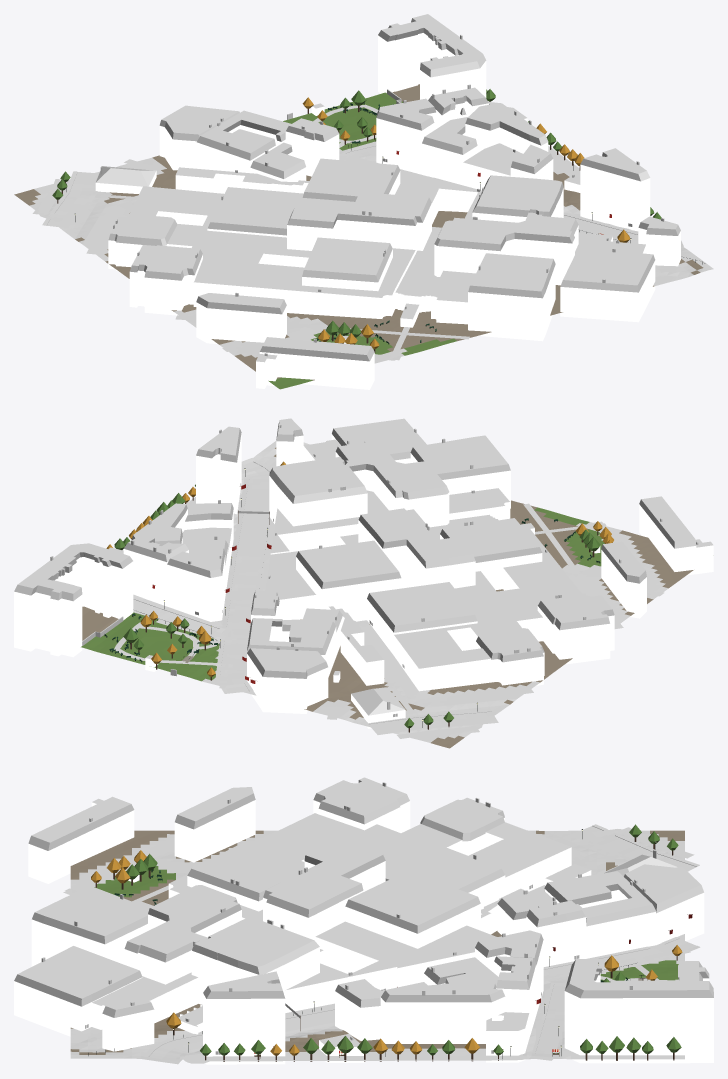
Rendered from zone_C6.glb.
The picture shows the model from 3 angles, top to bottom: view 1: azimuth 30°, elevation 25°; view 2: azimuth 150°, elevation 25°; view 3: azimuth 270°, elevation 25°; orthographic projection. The views are drawn at different scales.
Visible parts, largest first — view 1: zone_C6_batiments, zone_C6_terrain, zone_C6_sol_NOCOL, zone_C6_decor_NOCOL; view 2: zone_C6_batiments, zone_C6_terrain, zone_C6_sol_NOCOL, zone_C6_decor_NOCOL; view 3: zone_C6_batiments, zone_C6_terrain, zone_C6_sol_NOCOL, zone_C6_decor_NOCOL.
Part boxes in pixels (x1,y1,x2,y2): zone_C6_batiments: [95, 14, 680, 389]; zone_C6_terrain: [14, 84, 713, 389]; zone_C6_sol_NOCOL: [32, 104, 683, 360]; zone_C6_decor_NOCOL: [52, 89, 704, 352]; zone_C6_batiments: [14, 418, 713, 728]; zone_C6_terrain: [81, 441, 693, 748]; zone_C6_sol_NOCOL: [114, 458, 664, 738]; zone_C6_decor_NOCOL: [104, 461, 613, 732]; zone_C6_batiments: [14, 777, 713, 1064]; zone_C6_terrain: [70, 830, 684, 1059]; zone_C6_sol_NOCOL: [63, 824, 700, 1064]; zone_C6_decor_NOCOL: [88, 824, 682, 1061].
Size of the model in its own units: 213 by 34.01 by 239.
